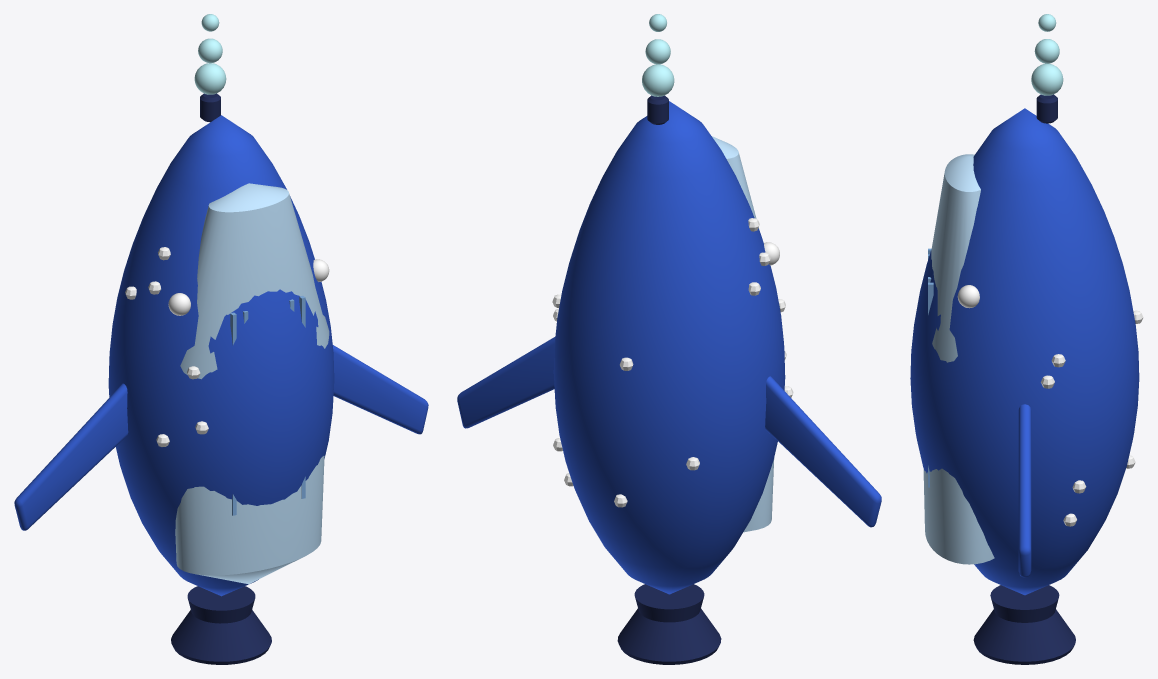
The model's file is Rocket_34_SpaceWhale.fbx.
3 renders of one model, left to right at view 1: azimuth 30°, elevation 25°; view 2: azimuth 150°, elevation 25°; view 3: azimuth 270°, elevation 25°, orthographic. The views are drawn at different scales.
Visible parts, largest first — view 1: R34_Body, R34_Belly, R34_Nozzle, R34_Flipper_2, R34_Flipper, R34_Spout; view 2: R34_Body, R34_Nozzle, R34_Flipper_2, R34_Flipper, R34_Belly, R34_Spout; view 3: R34_Body, R34_Belly, R34_Nozzle, R34_Flipper, R34_Spout, R34_Blowhole, R34_Spout_2, R34_Eye.
Part boxes in pixels (bbox=[...]): R34_Body: bbox=[108, 115, 334, 596]; R34_Belly: bbox=[175, 183, 329, 584]; R34_Nozzle: bbox=[171, 586, 271, 664]; R34_Flipper_2: bbox=[14, 383, 128, 530]; R34_Flipper: bbox=[332, 345, 428, 434]; R34_Spout: bbox=[194, 63, 226, 94]; R34_Body: bbox=[553, 101, 785, 594]; R34_Nozzle: bbox=[617, 584, 721, 664]; R34_Flipper_2: bbox=[765, 376, 881, 527]; R34_Flipper: bbox=[457, 337, 555, 428]; R34_Belly: bbox=[712, 136, 779, 532]; R34_Spout: bbox=[642, 64, 674, 96]; R34_Body: bbox=[910, 108, 1139, 595]; R34_Belly: bbox=[923, 154, 994, 564]; R34_Nozzle: bbox=[973, 585, 1075, 664]; R34_Flipper: bbox=[1018, 404, 1031, 577]; R34_Spout: bbox=[1031, 63, 1063, 95]; R34_Blowhole: bbox=[1036, 94, 1057, 123]; R34_Spout_2: bbox=[1034, 39, 1059, 63]; R34_Eye: bbox=[957, 285, 979, 308].
Bounding box in the file's own units: 5.38 × 7.75 × 2.6.
